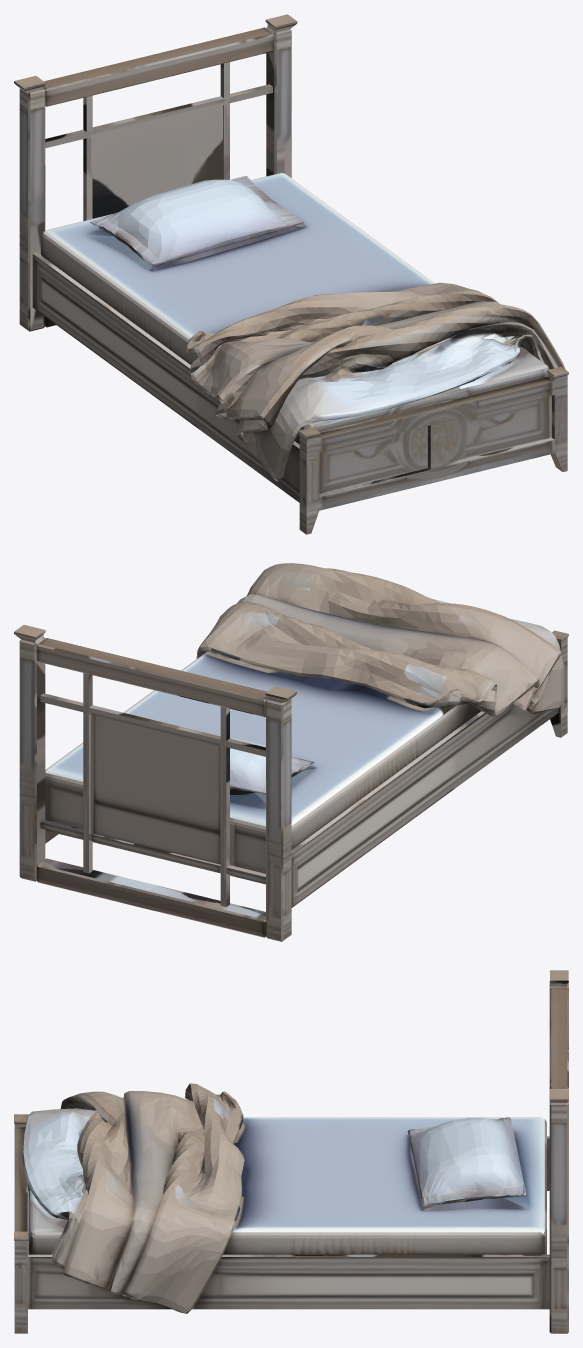
The model's file is edited_mesh.glb.
The picture shows the model from 3 angles, top to bottom: view 1: azimuth 30°, elevation 25°; view 2: azimuth 150°, elevation 25°; view 3: azimuth 270°, elevation 25°; orthographic projection. The views are drawn at different scales.
Visible parts, largest first — view 1: solid_001_wire; view 2: solid_001_wire; view 3: solid_001_wire.
Boxes of the visible parts, left/top/right/bottom form: solid_001_wire: left=14, top=14, right=568, bottom=534; solid_001_wire: left=14, top=563, right=568, bottom=941; solid_001_wire: left=14, top=970, right=568, bottom=1333.
Size of the model in its own units: 1.29 by 0.9447 by 2.
1 material, 1 textured.
